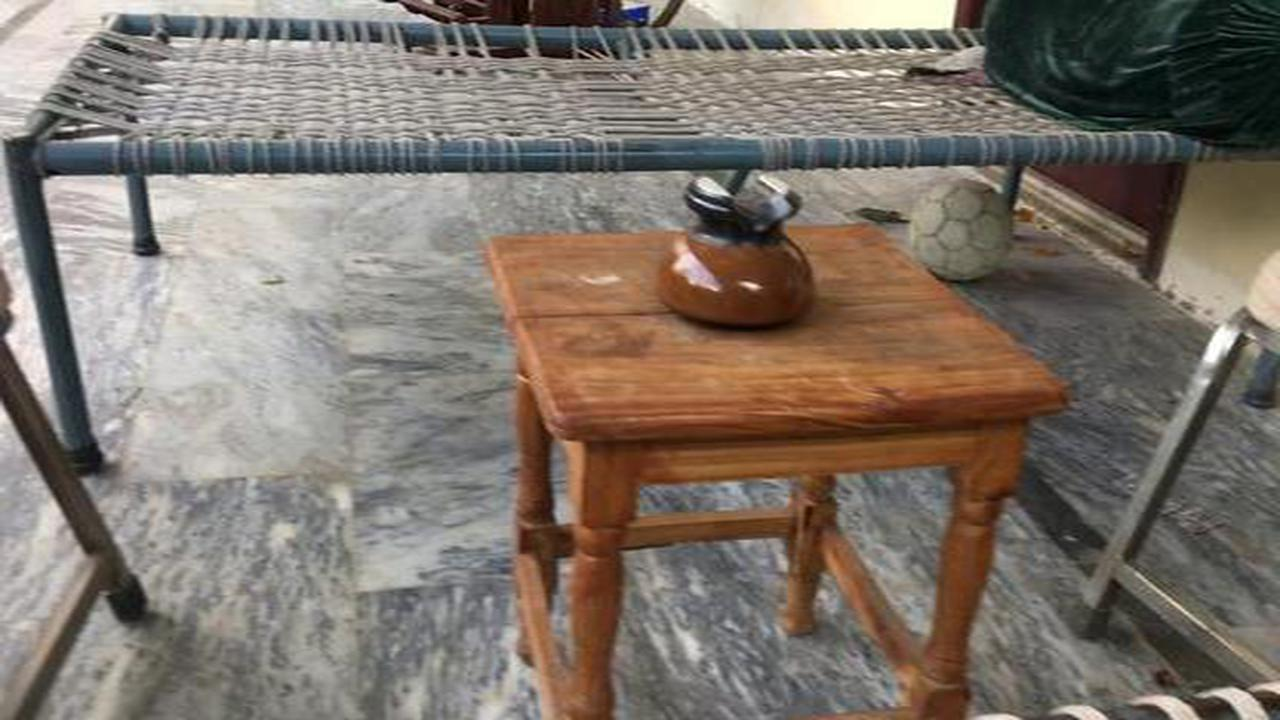insulator_pin: (631, 160, 841, 348)
